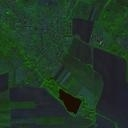alloviz: (56, 87, 82, 115)
